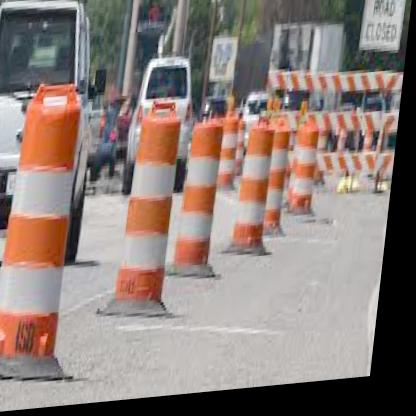obstacle: (5, 75, 92, 367), (121, 106, 189, 313), (181, 122, 228, 271)
